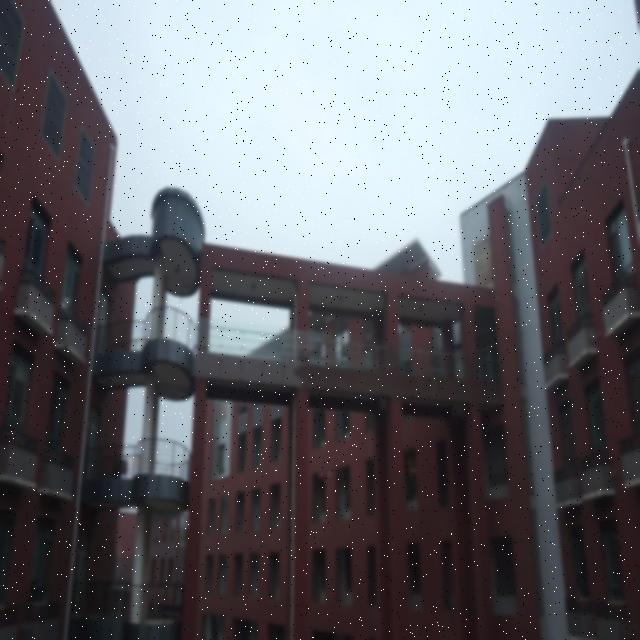UAV: (317, 471, 331, 480)
